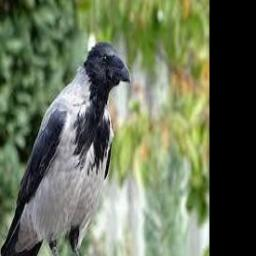Crow: (0, 41, 130, 256)
